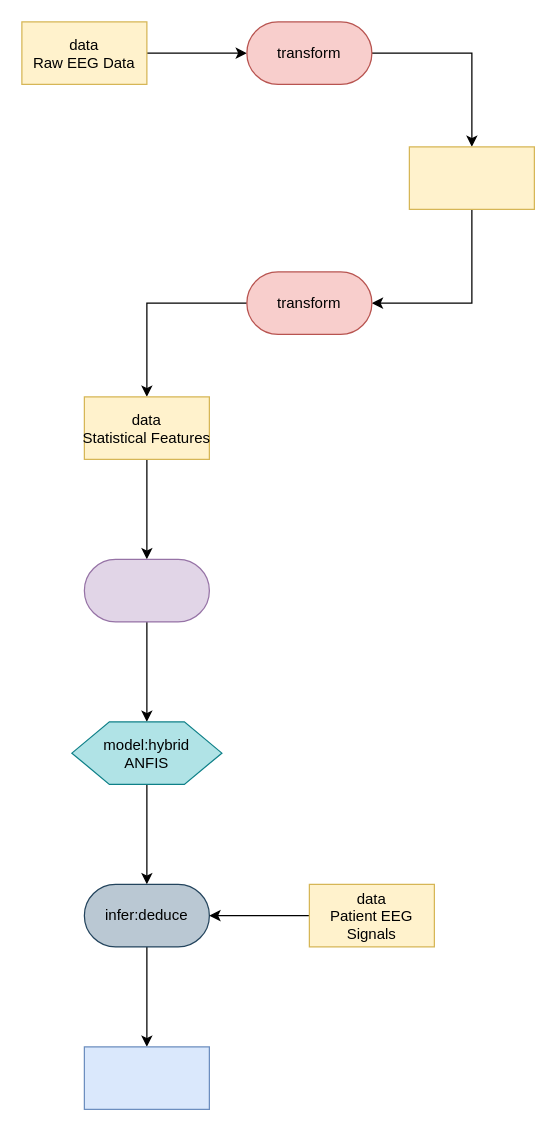
The diagram is 556 pixels wide and 1131 high, and some of its shapes have lost their labels. Here are the shapes that lost their labels. From the top down, the centre of each, then its label:
At (471,177): "data Preprocessed EEG Data".
At (146,590): "generate:train".
At (146,1077): "symbol Detected Epilectic Seizure".
